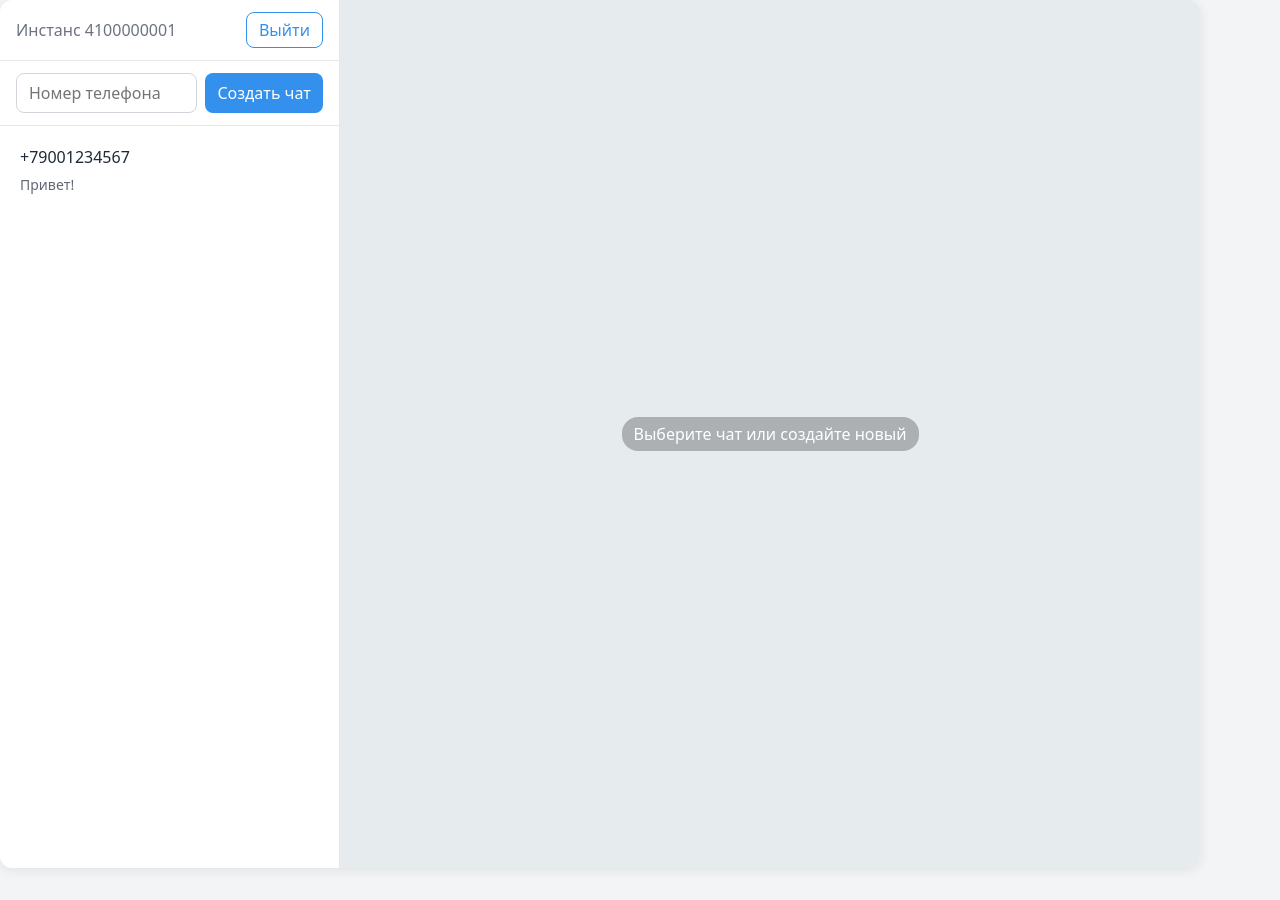
Scenario: ChatPage › receiving messages › creates a chat for a message from an unknown sender
This screenshot has width=1280, height=900.
What coordinates should you click on to do the following:
click the button "+79001234567 Привет!"
I would click on:
 (75, 157)
Its box is [8, 134, 331, 206].
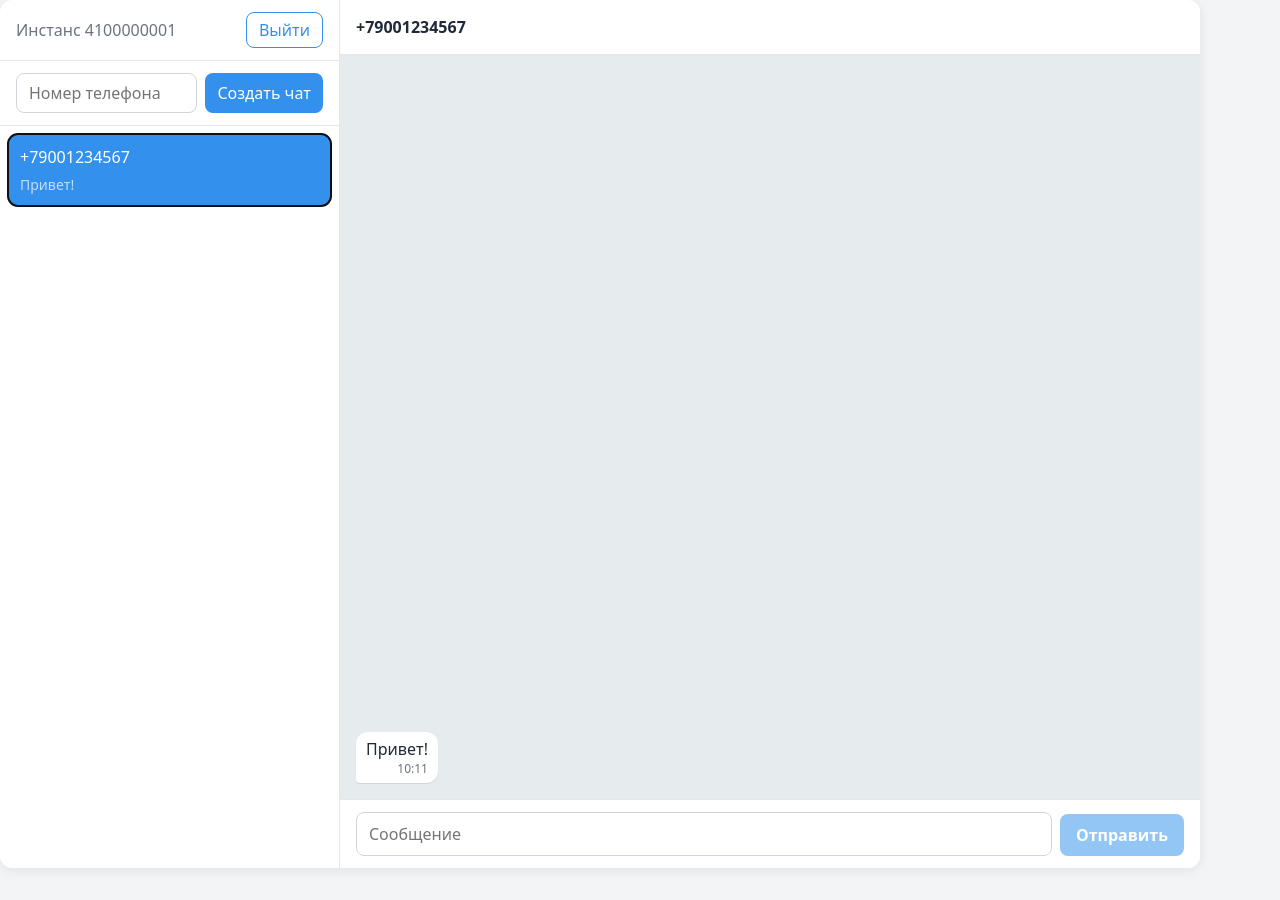
Expected: the 2nd text "Привет!" is shown, [366, 738, 428, 760]
